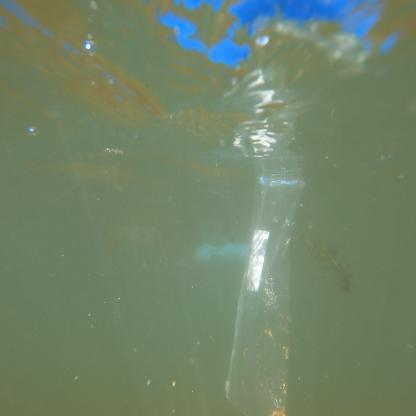Rác: (233, 163, 306, 414)
